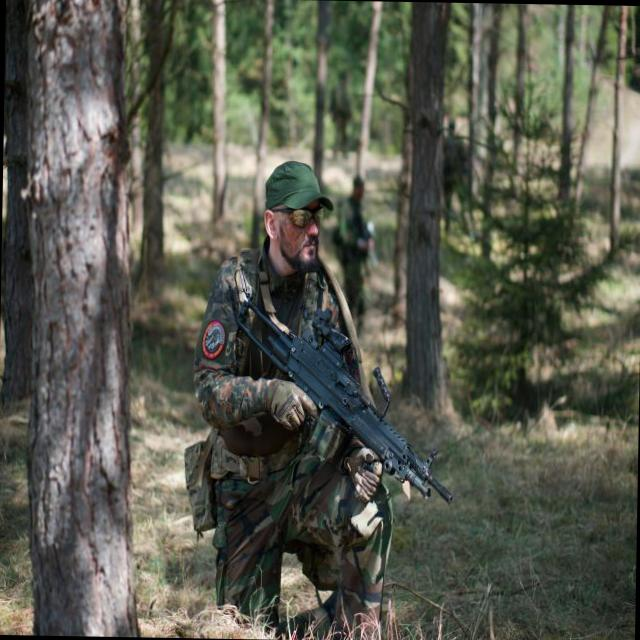Gun: (236, 299, 451, 500)
